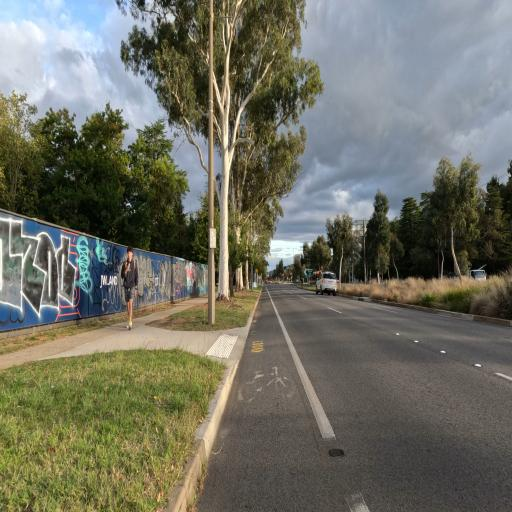kerb_cut: (200, 332, 248, 364)
